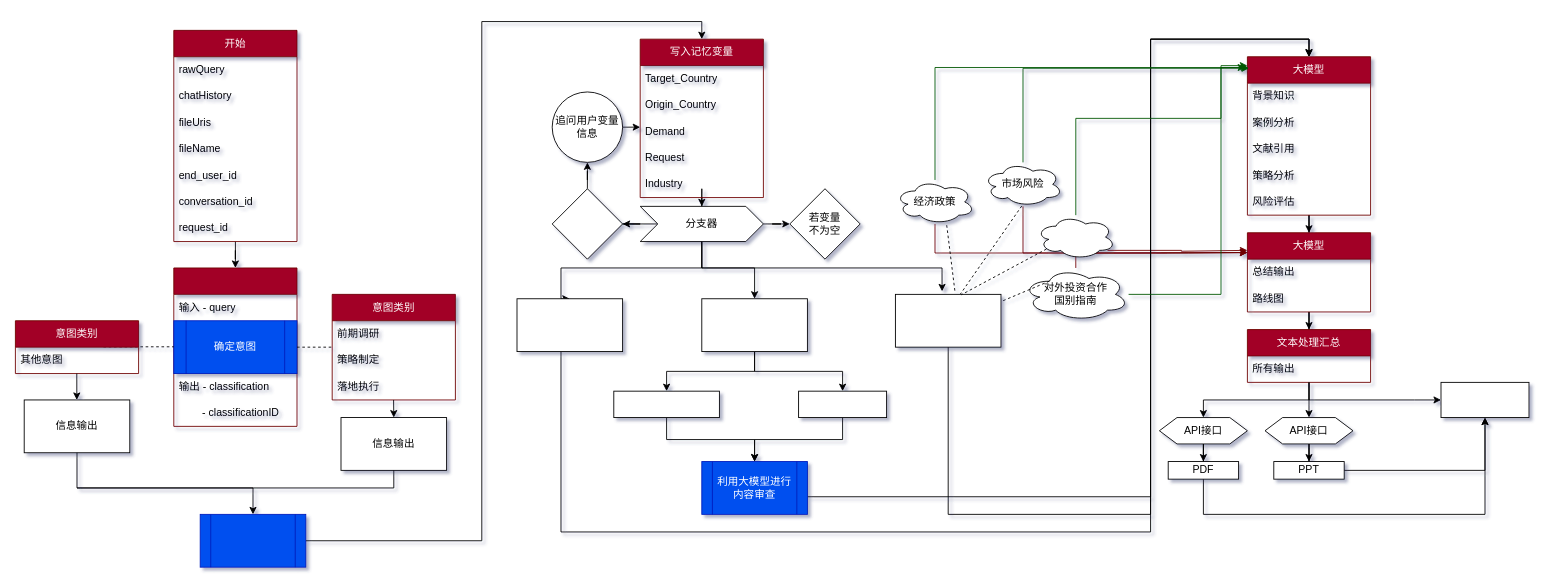
This 1550x588 diagram has some shape labels left out. Each missing label, with the box of its shape:
意图识别: (173, 267, 297, 426)
收集用户输入信息: (199, 513, 306, 567)
正面案例: (613, 390, 719, 418)
法律文件: (1035, 214, 1115, 259)
生成报告标题: (516, 298, 623, 352)
直接输出: (1440, 381, 1529, 418)
知识库检索: (895, 293, 1001, 347)
联网案例搜索: (701, 298, 807, 352)
若有变 量为空: (551, 188, 623, 259)
负面案例: (798, 390, 887, 418)
